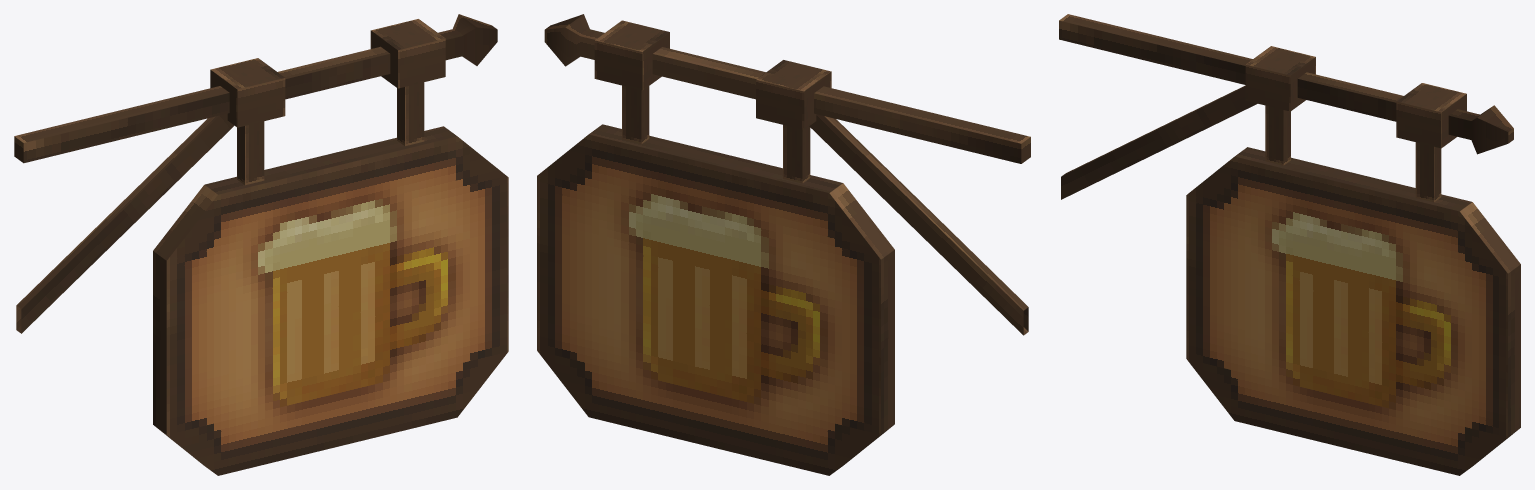
File: Signboard - PUB3.fbx
3 views of the same model, side by side, from view 1: azimuth 30°, elevation 25°; view 2: azimuth 150°, elevation 25°; view 3: azimuth 330°, elevation 25° (orthographic). The views are drawn at different scales.
Visible parts, largest first — view 1: signboard_PUB3; view 2: signboard_PUB3; view 3: signboard_PUB3.
Boxes of the visible parts, x1,y1,x2,y2 form: signboard_PUB3: (14,14,508,475); signboard_PUB3: (537,14,1030,475); signboard_PUB3: (1059,14,1520,475).
Size of the model in its own units: 1.01 by 0.7713 by 0.0985.
